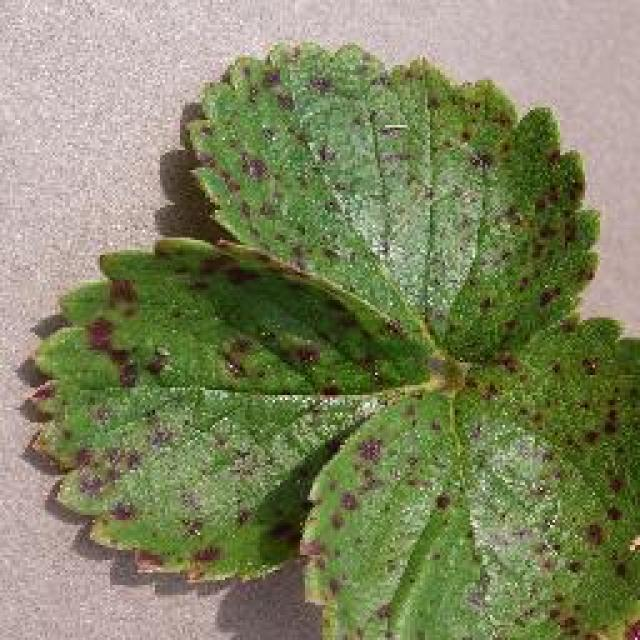Strawberry leaf scorch: (130, 178, 578, 592)
